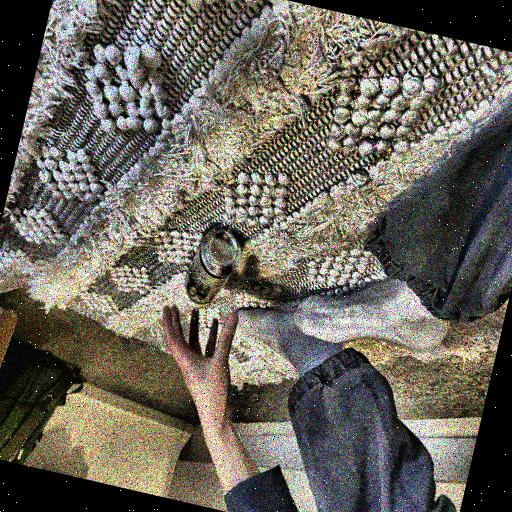sandels: (172, 217, 247, 320)
